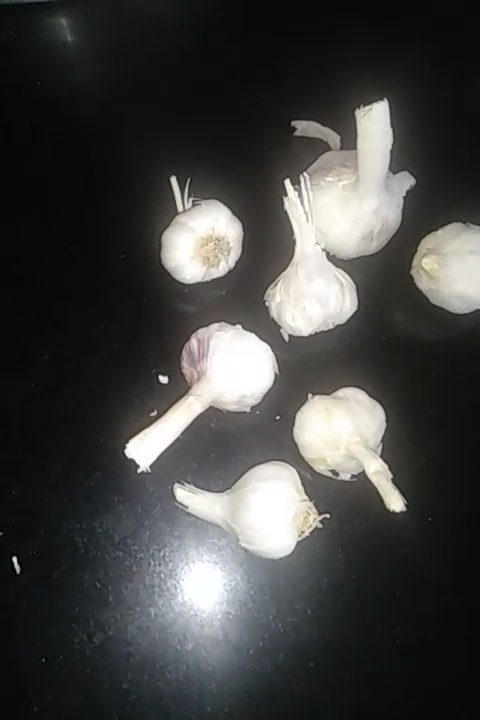garlic: (140, 462, 339, 560), (142, 322, 267, 474), (284, 389, 410, 517), (302, 103, 399, 266), (270, 182, 358, 344), (158, 180, 243, 291), (402, 221, 480, 317)
